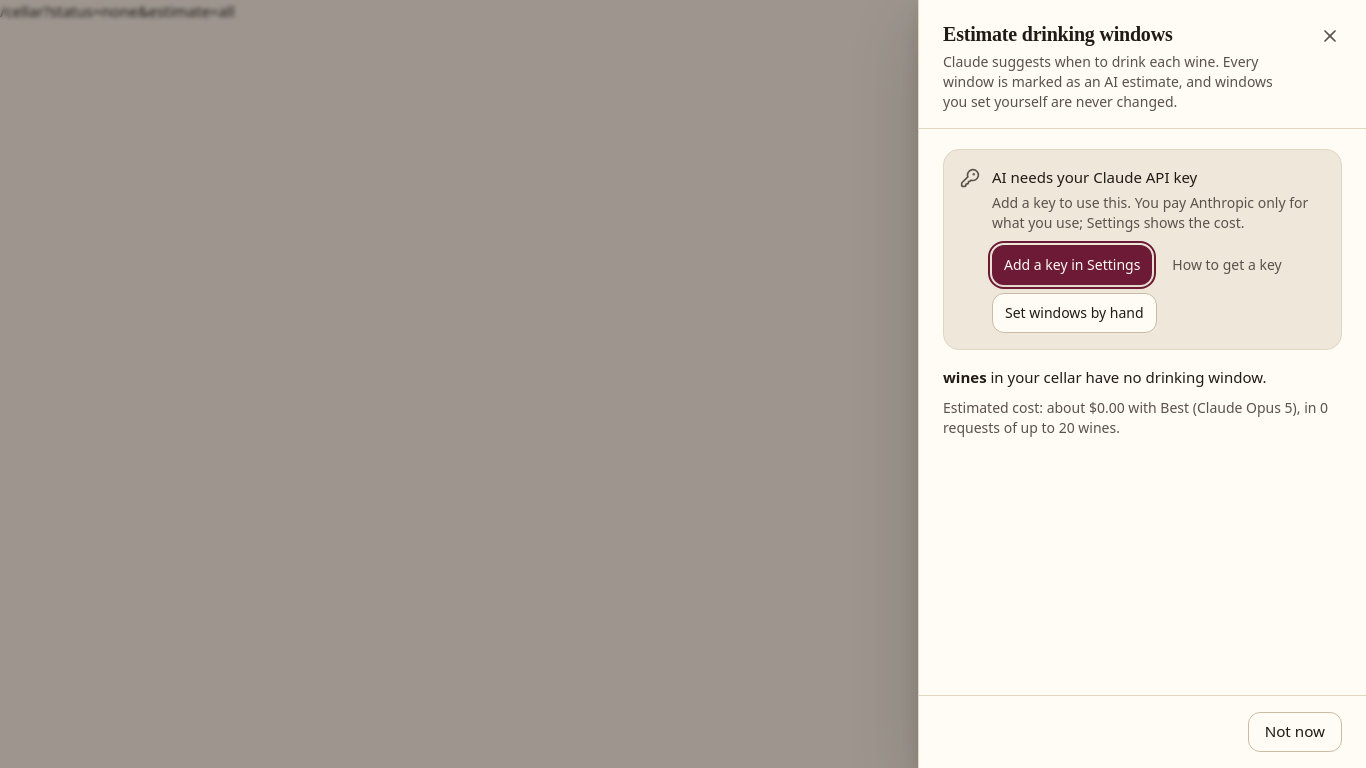
Test case: BulkEstimate › removes estimate=all from the URL when closed and keeps the other filters
Click the button named "Close" at (1330, 36), box x1=1310 y1=16 x2=1350 y2=56
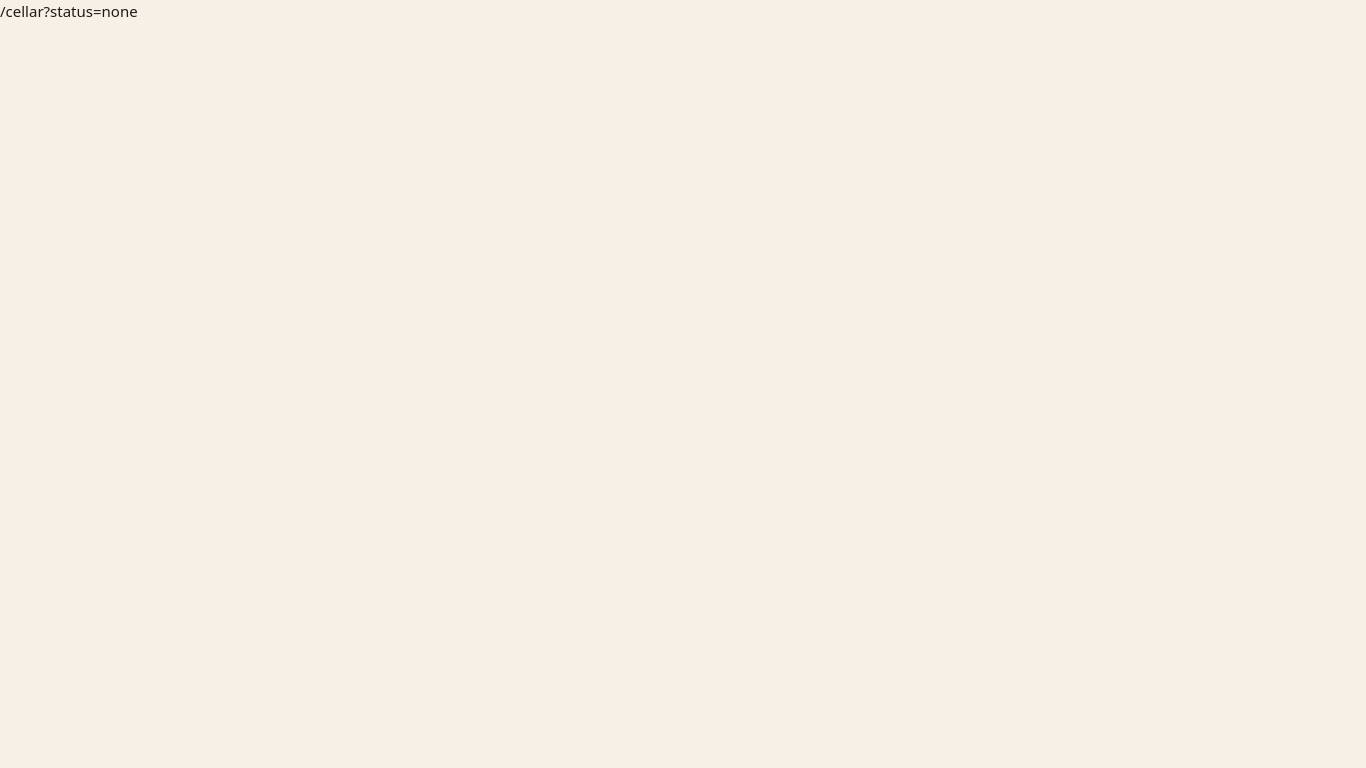
Now the dialog is gone
Now the text with test id "path" reads "/cellar?status=none", box x1=0 y1=1 x2=138 y2=21
